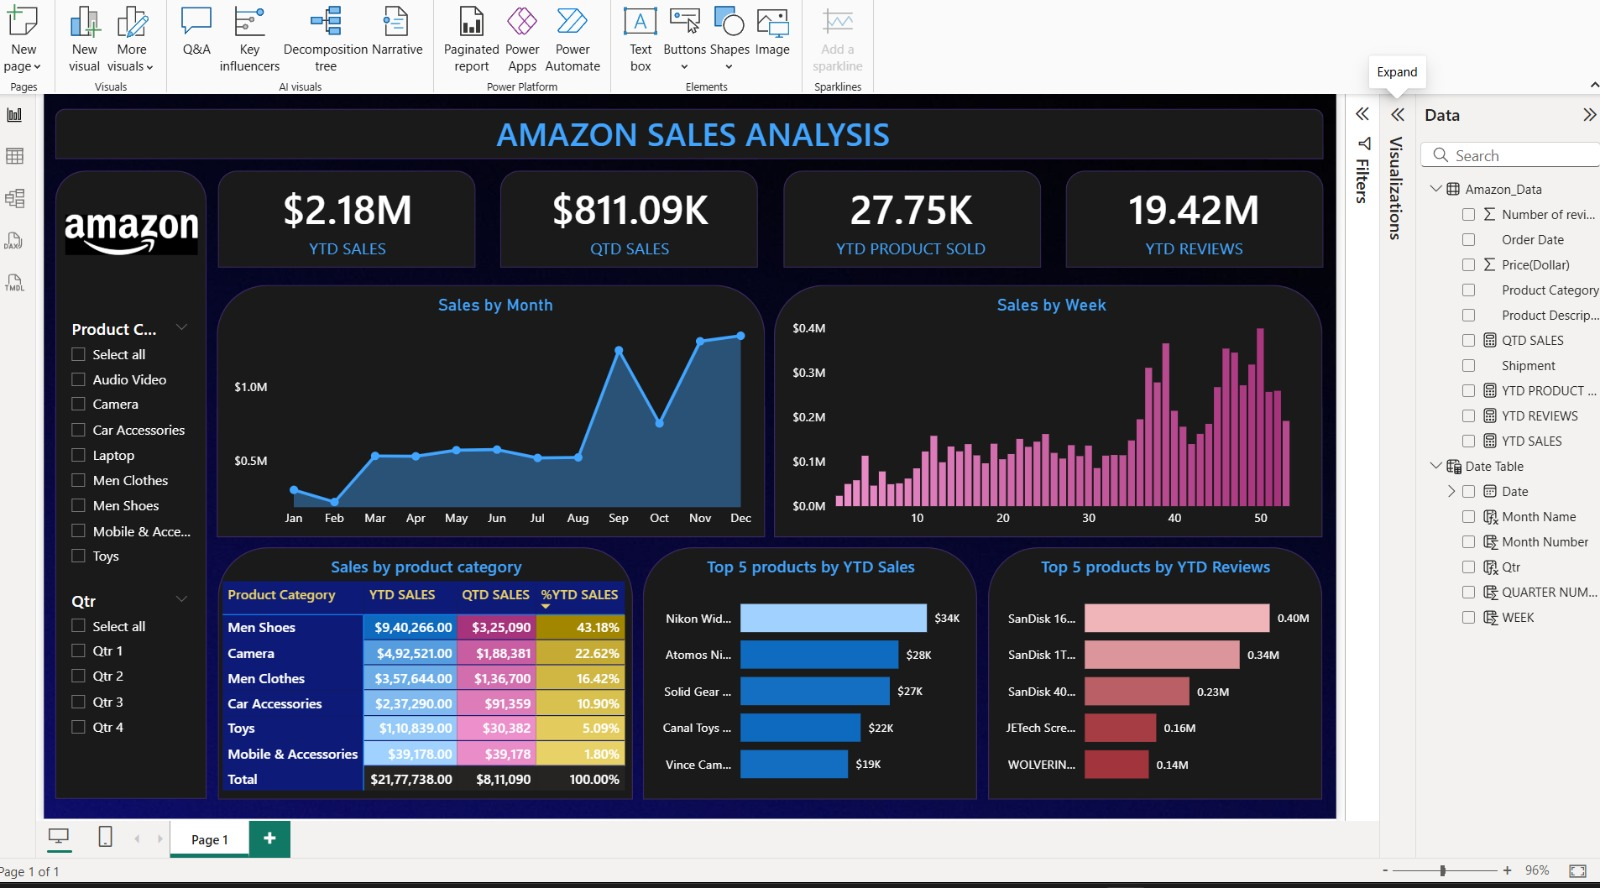

The page's visual inventory and layout, read from the dashboard file:
{"tool":"powerbi","page":{"name":"Page 1","canvas":[1280,720],"ordinal":0},"visuals":[{"type":"shape","box":[172.5,76.2,255.5,96.2],"z":0,"group":"g1"},{"type":"shape","box":[11.2,76.2,150,622.5],"z":0},{"type":"card","fields":{"Values":["Amazon_Data.YTD Sales"]},"box":[173.6,76.2,255.5,96.2],"z":1000,"group":"g1"},{"type":"shape","box":[11.2,15,1256.2,50],"z":1000},{"type":"shape","box":[452.3,76.2,255.5,96.2],"z":2000,"group":"g1"},{"type":"textbox","box":[442.5,12.5,401.2,53.8],"z":2000},{"type":"shape","box":[1012,76.2,255.5,96.2],"z":3000,"group":"g1"},{"type":"group","id":"g1","title":"Group 1","box":[172.5,76.2,1095,96.2],"z":3000},{"type":"shape","box":[732.2,76.2,255.5,96.2],"z":4000,"group":"g1"},{"type":"shape","box":[171.1,188.9,543,250],"z":4000},{"type":"card","fields":{"Values":["Amazon_Data.YTD REVIEWS"]},"box":[1012,76.2,255.5,96.2],"z":5000,"group":"g1"},{"type":"areaChart","title":"Sales by Month ","fields":{"Category":["Date Table.Month Name"],"Y":["Sum(Amazon_Data.Price(Dollar))"]},"box":[184.4,198.9,527.8,240],"z":5000},{"type":"card","fields":{"Values":["Amazon_Data.YTD PRODUCT SOLD"]},"box":[731.8,76.2,255.5,96.2],"z":6000,"group":"g1"},{"type":"shape","box":[723.3,188.9,543.3,250],"z":6000},{"type":"card","fields":{"Values":["Amazon_Data.QTD SALES"]},"box":[452.7,76.2,255.5,96.2],"z":7000,"group":"g1"},{"type":"columnChart","title":" Sales by Week","fields":{"Category":["Date Table.WEEK"],"Y":["Sum(Amazon_Data.Price(Dollar))"]},"box":[736.7,198.9,523.3,240],"z":7000},{"type":"shape","box":[172.2,448.9,411.1,250],"z":8000},{"type":"pivotTable","title":"Sales by product category","fields":{"Rows":["Amazon_Data.Product Category"],"Values":["Amazon_Data.YTD SALES1","Amazon_Data.QTD SALES","Amazon_Data.YTD SALES"]},"box":[172.2,456.7,413.3,242.2],"z":9000},{"type":"shape","box":[593.9,448.9,331.1,250],"z":10000},{"type":"shape","box":[935.6,448.9,331.1,250],"z":11000},{"type":"clusteredBarChart","title":"Top 5 products by YTD Sales","fields":{"Category":["Amazon_Data.Product Description"],"Y":["Amazon_Data.YTD SALES"]},"box":[594.4,456.7,331.1,242.2],"z":12000},{"type":"clusteredBarChart","title":"Top 5 products by YTD Reviews","fields":{"Category":["Amazon_Data.Product Description"],"Y":["Amazon_Data.YTD REVIEWS"]},"box":[936.2,456.2,330,242.5],"z":13000},{"type":"slicer","fields":{"Values":["Amazon_Data.Product Category"]},"box":[14.5,216.2,141.3,232.8],"z":14000},{"type":"slicer","fields":{"Values":["Date Table.Qtr"]},"box":[16.3,455.8,141.9,176.7],"z":15000},{"type":"image","box":[16.3,91.9,140.7,96.5],"z":16000}]}

Visuals, with their boxes on the page's 1280x720 design canvas (x1, y1, x2, y2). These are canvas units, not pixel positions in the 1600x888 screenshot, which may show the page scaled, cropped or inside an application window:
shape: select_region(172, 76, 428, 172)
shape: select_region(11, 76, 161, 699)
card - Amazon_Data.YTD Sales: select_region(174, 76, 429, 172)
shape: select_region(11, 15, 1267, 65)
shape: select_region(452, 76, 708, 172)
textbox: select_region(442, 12, 844, 66)
shape: select_region(1012, 76, 1268, 172)
"Group 1" group: select_region(172, 76, 1268, 172)
shape: select_region(732, 76, 988, 172)
shape: select_region(171, 189, 714, 439)
card - Amazon_Data.YTD REVIEWS: select_region(1012, 76, 1268, 172)
"Sales by Month " areaChart: select_region(184, 199, 712, 439)
card - Amazon_Data.YTD PRODUCT SOLD: select_region(732, 76, 987, 172)
shape: select_region(723, 189, 1267, 439)
card - Amazon_Data.QTD SALES: select_region(453, 76, 708, 172)
" Sales by Week" columnChart: select_region(737, 199, 1260, 439)
shape: select_region(172, 449, 583, 699)
"Sales by product category" pivotTable: select_region(172, 457, 586, 699)
shape: select_region(594, 449, 925, 699)
shape: select_region(936, 449, 1267, 699)
"Top 5 products by YTD Sales" clusteredBarChart: select_region(594, 457, 926, 699)
"Top 5 products by YTD Reviews" clusteredBarChart: select_region(936, 456, 1266, 699)
slicer - Amazon_Data.Product Category: select_region(14, 216, 156, 449)
slicer - Date Table.Qtr: select_region(16, 456, 158, 632)
image: select_region(16, 92, 157, 188)
